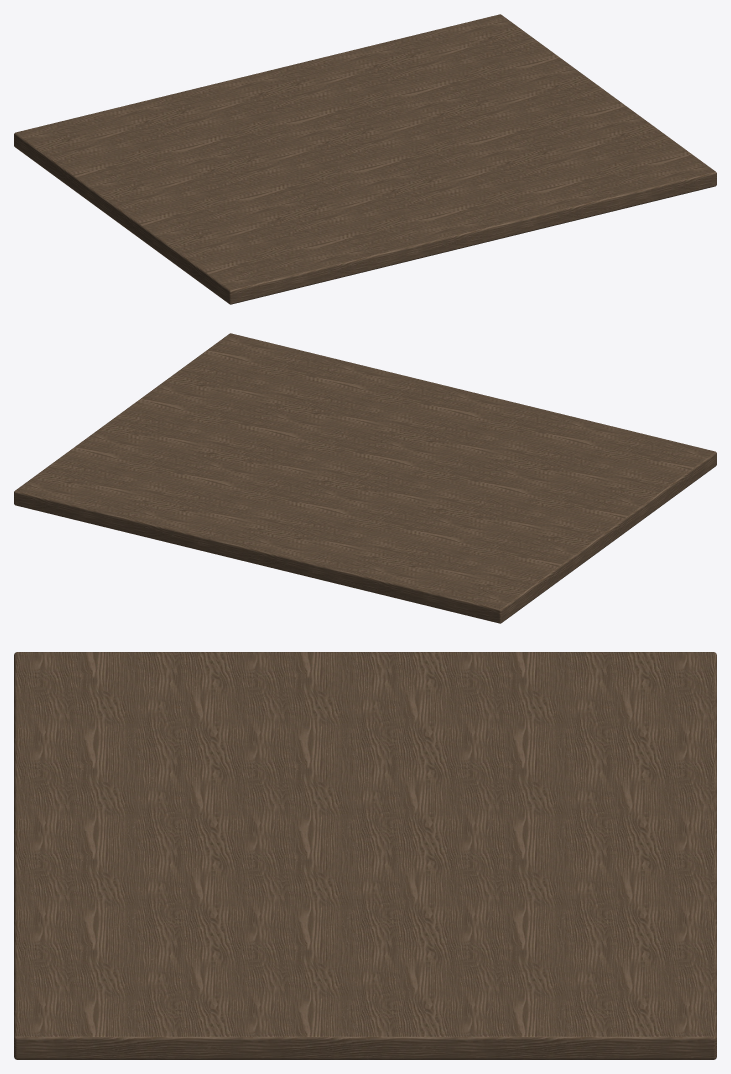
Rendered from desk.glb.
3 views of the same model, one above another, from view 1: azimuth 30°, elevation 25°; view 2: azimuth 150°, elevation 25°; view 3: azimuth 270°, elevation 25° (orthographic). The views are drawn at different scales.
Visible parts, largest first — view 1: desk; view 2: desk; view 3: desk.
Boxes of the visible parts, x1,y1,x2,y2 form: desk: (14,14,716,304); desk: (14,333,716,623); desk: (14,652,716,1059).
Size of the model in its own units: 0.8514 by 0.0246 by 0.6549.
1 material, 1 textured.
